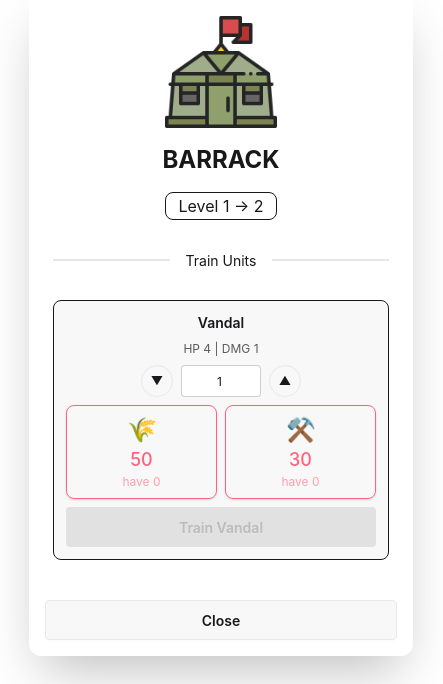
it: BuildingUpgradeCard — bulk training quantity › scales the resource cost preview live with the chosen quantity
Replace the text in the number field with test id "train-quantity-input" with "10" at (221, 381), box [181, 365, 261, 397]
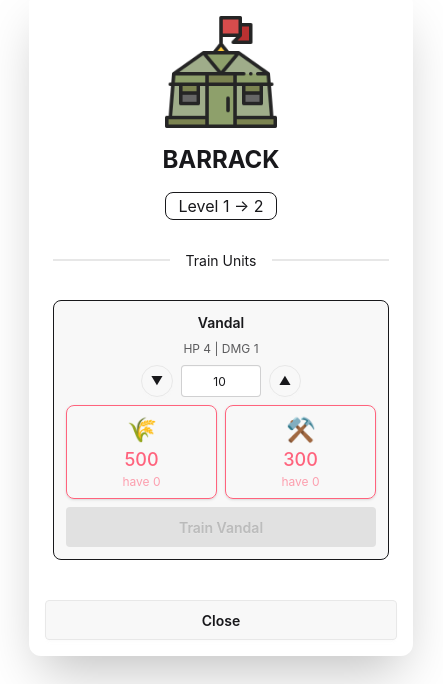
Result: the element with test id "train-food-cost" shows "500" at [124, 449, 159, 470]
Result: the element with test id "train-iron-cost" shows "300" at [283, 449, 318, 470]
